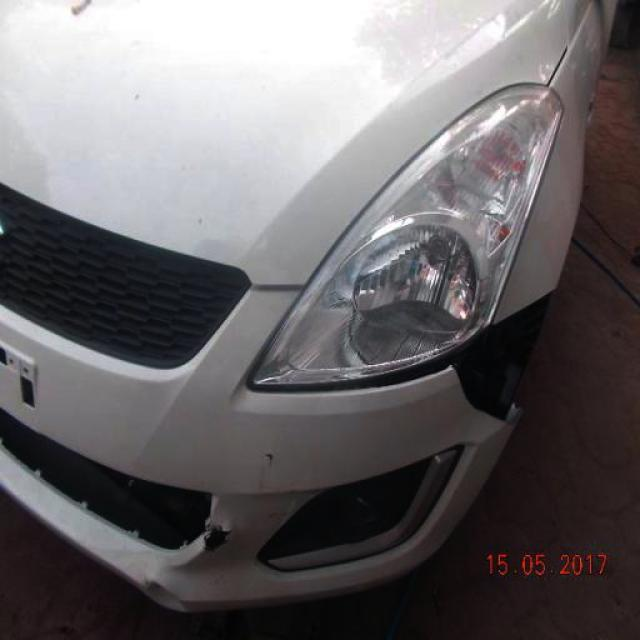car damage: (250, 291, 557, 428), (141, 578, 187, 615), (202, 525, 230, 557), (256, 439, 283, 468)
